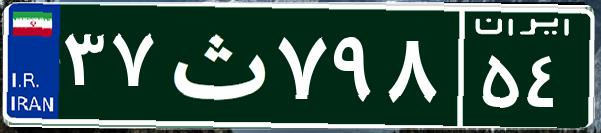3: (57, 26, 110, 107)
4: (525, 38, 570, 115)
5: (475, 38, 525, 113)
7: (273, 28, 330, 110), (110, 28, 158, 105)
8: (385, 28, 445, 110)
9: (330, 28, 385, 110)
ث: (158, 15, 273, 115)
